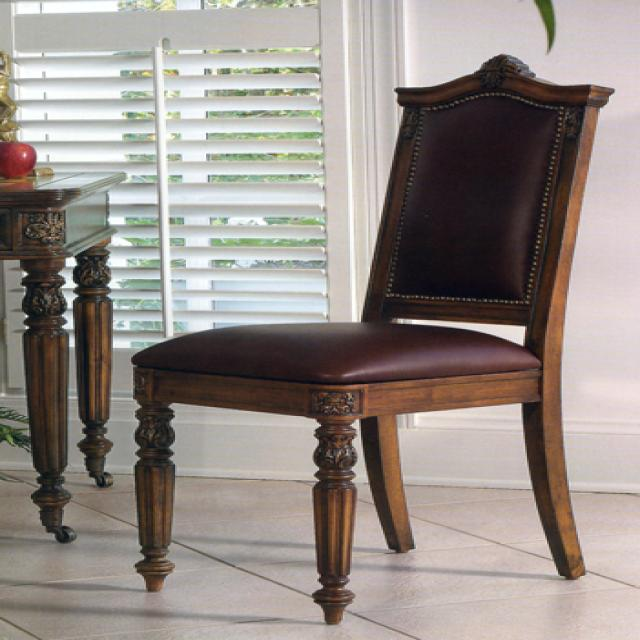chair: (128, 51, 618, 625)
